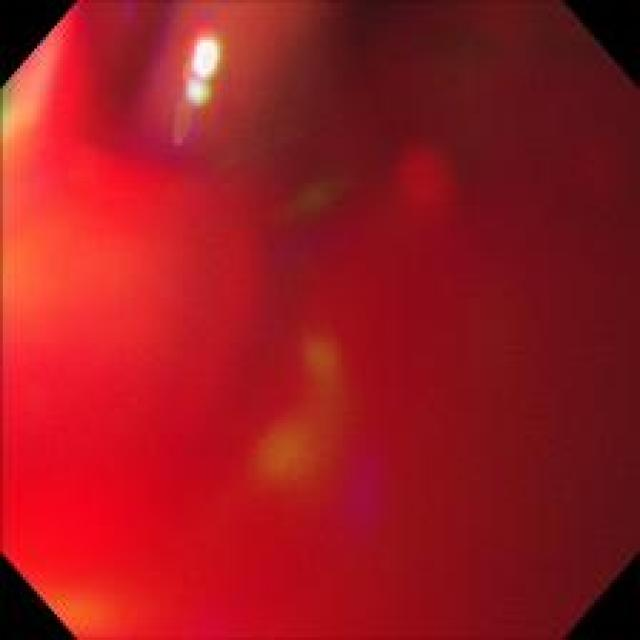color misalignment: (9, 15, 620, 629), (256, 321, 342, 492), (384, 119, 475, 230), (332, 434, 389, 546), (161, 94, 196, 160)
specularity: (175, 30, 222, 112)
